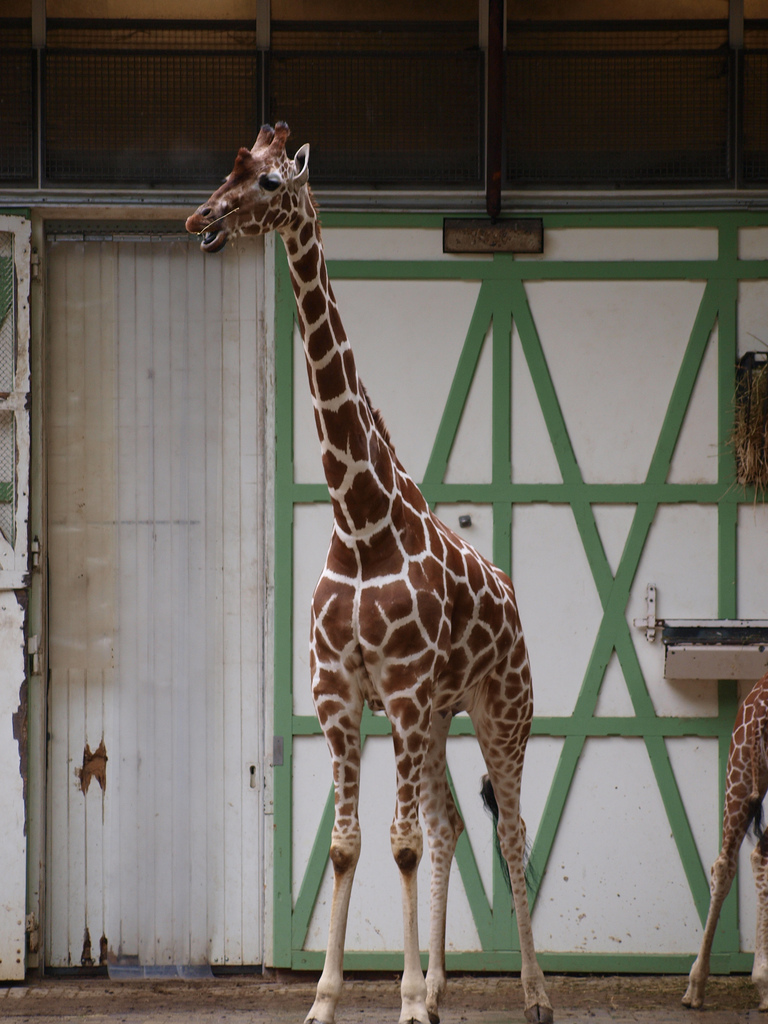giraffe: (167, 105, 578, 1017)
